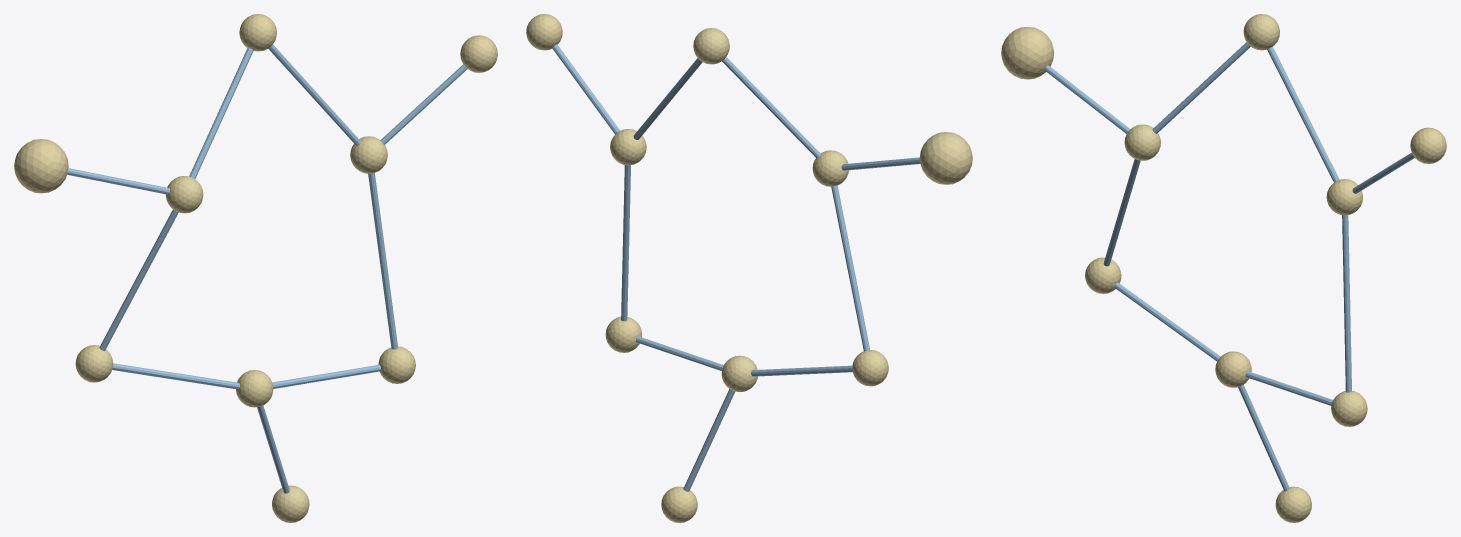
File: sagitario.glb
3 views of the same model, side by side, from view 1: azimuth 30°, elevation 25°; view 2: azimuth 150°, elevation 25°; view 3: azimuth 330°, elevation 25° (orthographic). The views are drawn at different scales.
Visible parts, largest first — view 1: world; view 2: world; view 3: world.
Boxes of the visible parts, left/top/right/bottom form: world: left=14, top=14, right=497, bottom=522; world: left=526, top=14, right=972, bottom=522; world: left=1001, top=14, right=1446, bottom=522.
Size of the model in its own units: 2.85 by 3 by 0.4626.
